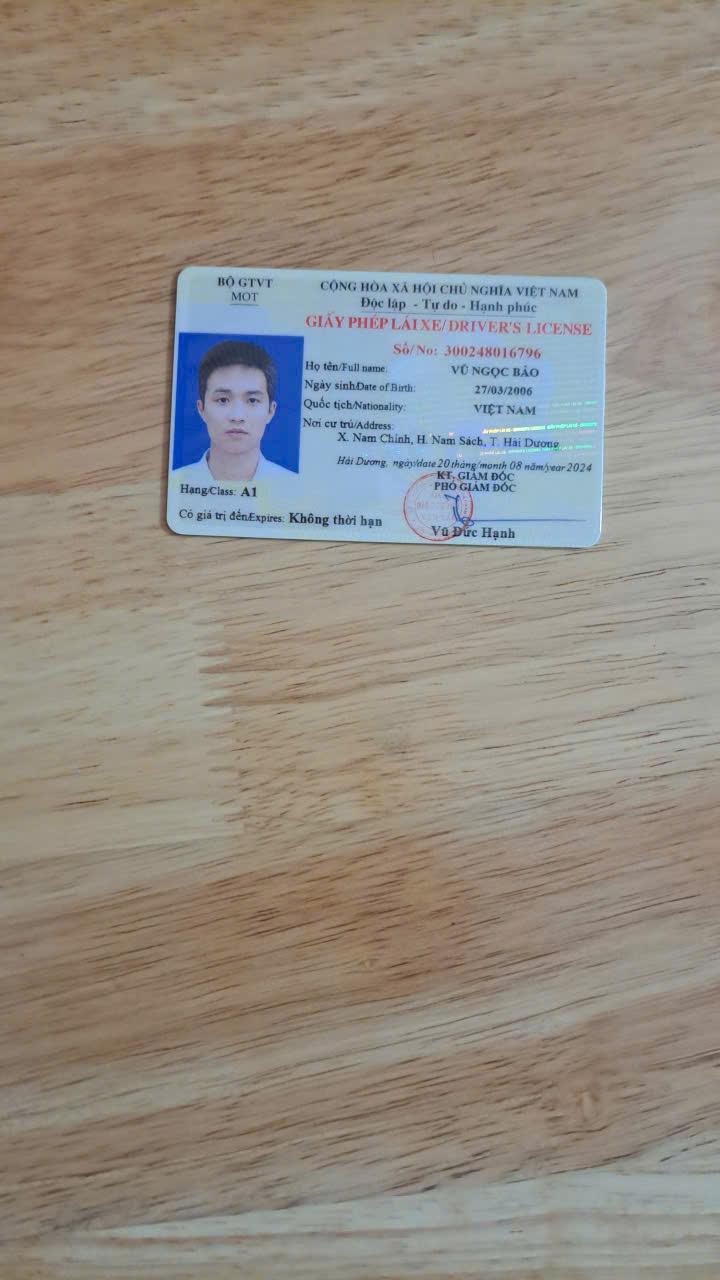gplx: (158, 253, 613, 555)
